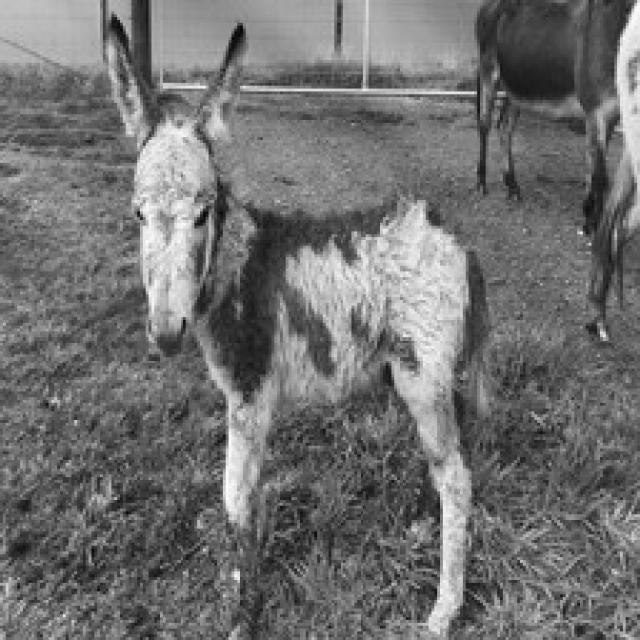Donkey: (100, 9, 494, 637), (471, 0, 637, 234), (583, 0, 637, 349)
